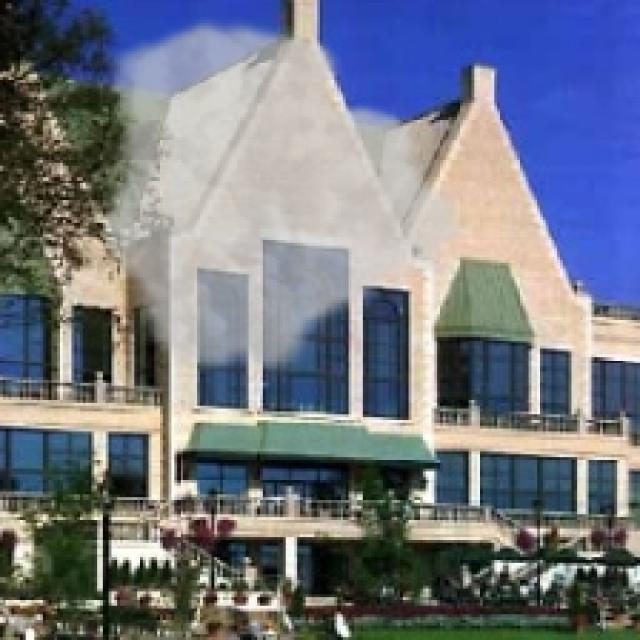Smoke: (97, 14, 469, 383)
